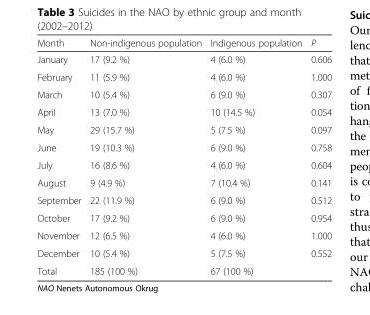table: (36, 36, 331, 276)
table column: (84, 36, 205, 276), (205, 36, 305, 276), (36, 36, 84, 276), (305, 36, 331, 276)
table column header: (36, 36, 331, 50)
table row: (36, 67, 331, 85), (36, 102, 331, 120), (36, 120, 331, 138), (36, 155, 331, 173), (36, 173, 331, 191), (36, 208, 331, 226), (36, 226, 331, 244), (36, 50, 331, 67), (36, 85, 331, 102), (36, 138, 331, 155), (36, 191, 331, 208), (36, 244, 331, 261), (36, 261, 331, 276), (36, 36, 331, 50)
